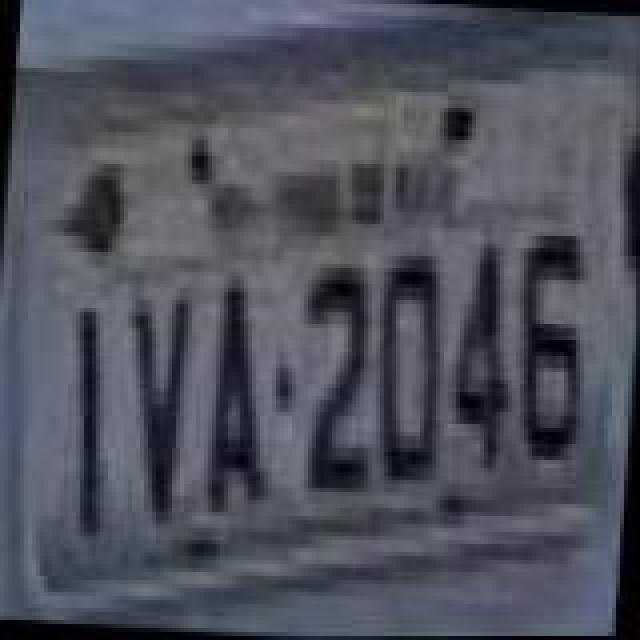1: (60, 298, 120, 542)
2: (294, 256, 390, 500)
4: (446, 240, 526, 476)
6: (508, 226, 600, 470)
A: (200, 272, 284, 524)
O: (370, 252, 458, 496)
V: (120, 294, 196, 530)
